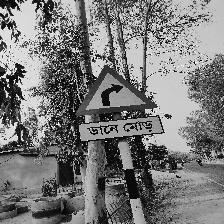Right-turn: (74, 65, 162, 142)
